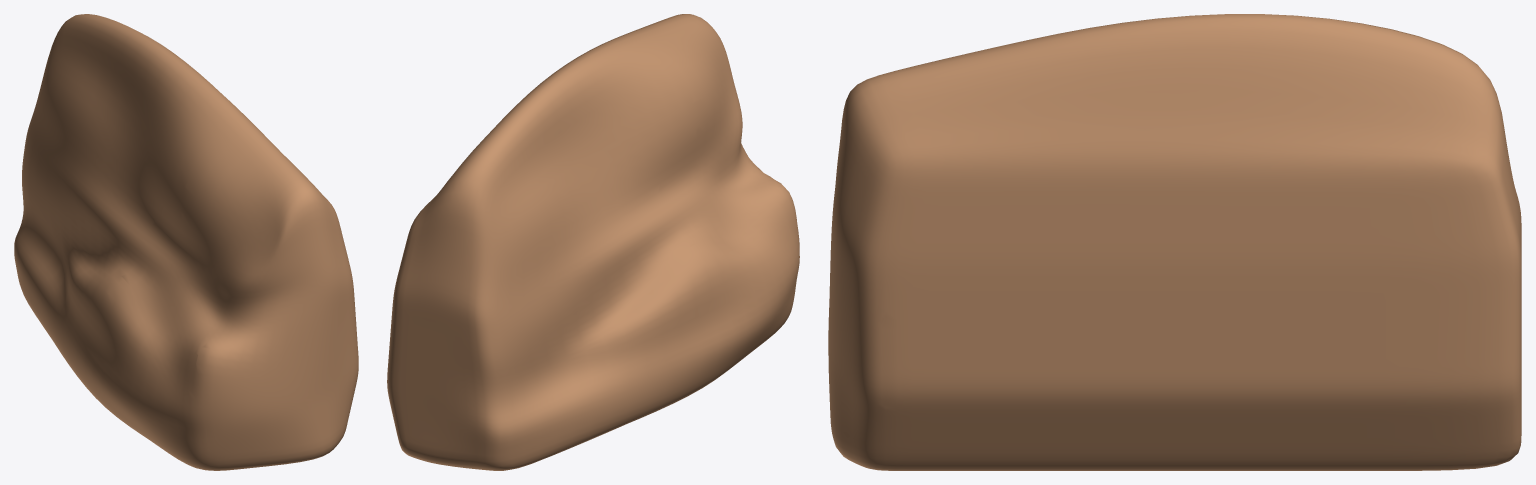
The model's file is Boulder1.3Updated.fbx.
3 renders of one model, left to right at view 1: azimuth 30°, elevation 25°; view 2: azimuth 150°, elevation 25°; view 3: azimuth 270°, elevation 25°, orthographic. The views are drawn at different scales.
Visible parts, largest first — view 1: Boulder1; view 2: Boulder1; view 3: Boulder1.
Boxes of the visible parts, <box> form: Boulder1: <box>14,14,358,470</box>; Boulder1: <box>387,14,799,470</box>; Boulder1: <box>828,14,1521,470</box>.
Bounding box in the file's own units: 535 × 870 × 1269.
